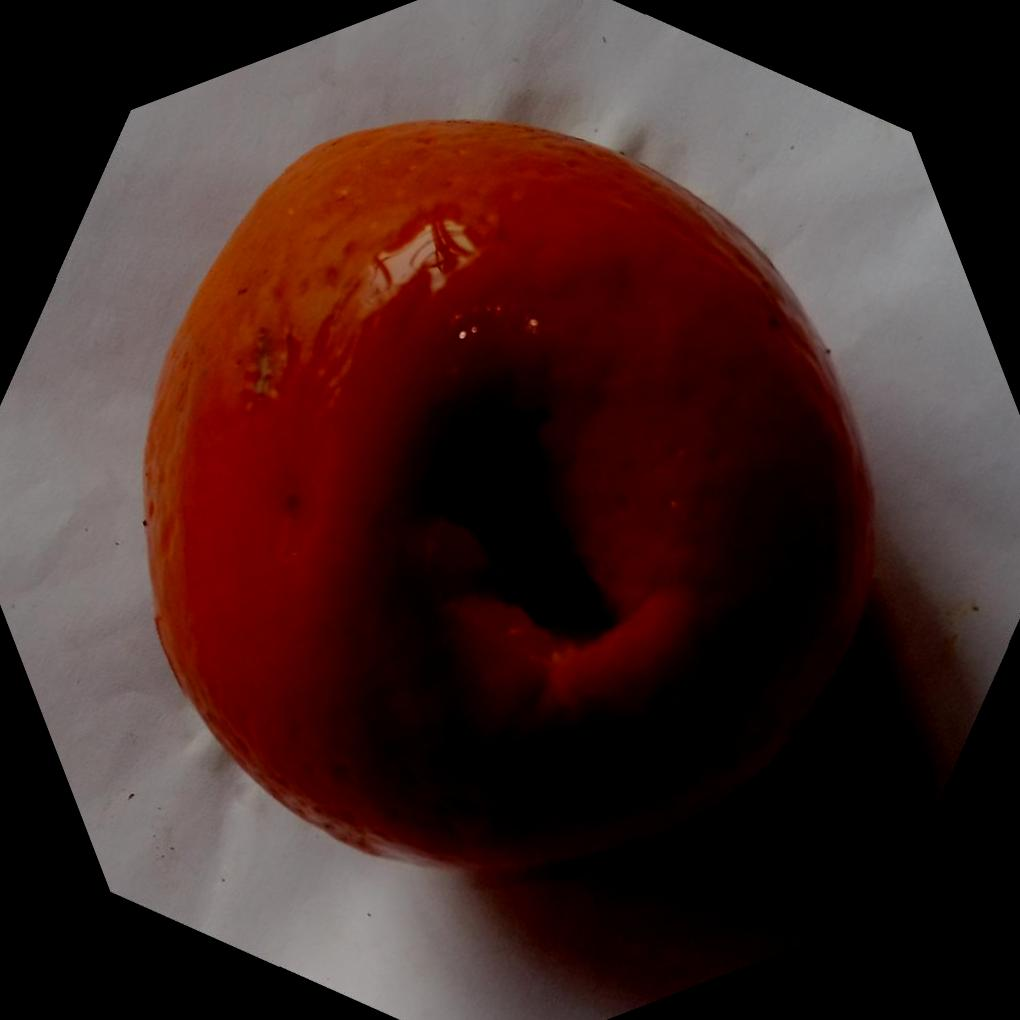FreshOrange: (140, 118, 880, 890)
